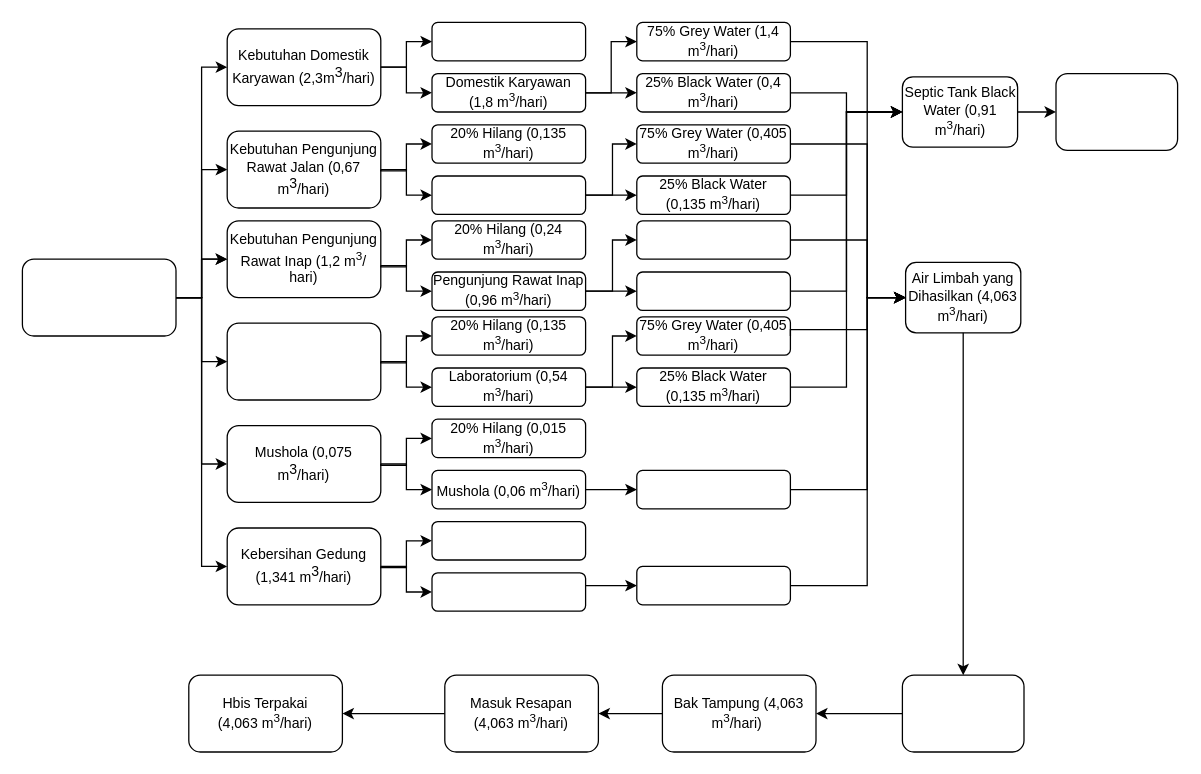
The diagram is 1201 pixels wide and 774 high, and some of its shapes have lost their labels. Each missing label, with the centre of its shape:
"100% Grey Water (0,06 m 3 /hari)" belongs at [713,489].
"100% Grey Water (1,073 m 3 /hari)" belongs at [713,585].
"20% Hilang (0,268 m 3 /hari)" belongs at [508,540].
"20% Hilang (0,47 m 3 /hari)" belongs at [508,41].
"25% Black Water (0,24 m 3 /hari)" belongs at [713,290].
"75% Grey Water (0,72 m 3 /hari)" belongs at [713,239].
"IPAL (4,063 m 3 /hari)" belongs at [962,713].
"Kebersihan Gedung (1,073 m 3 /hari)" belongs at [508,591].
"Laboratorium (0,675 m 3 /hari)" belongs at [303,361].
"Pengunjung Rawat Jalan (0,54 m 3 /hari)" belongs at [508,194].
"Pihak Ketiga" belongs at [1116,111].
"Sumber" belongs at [98,297].
